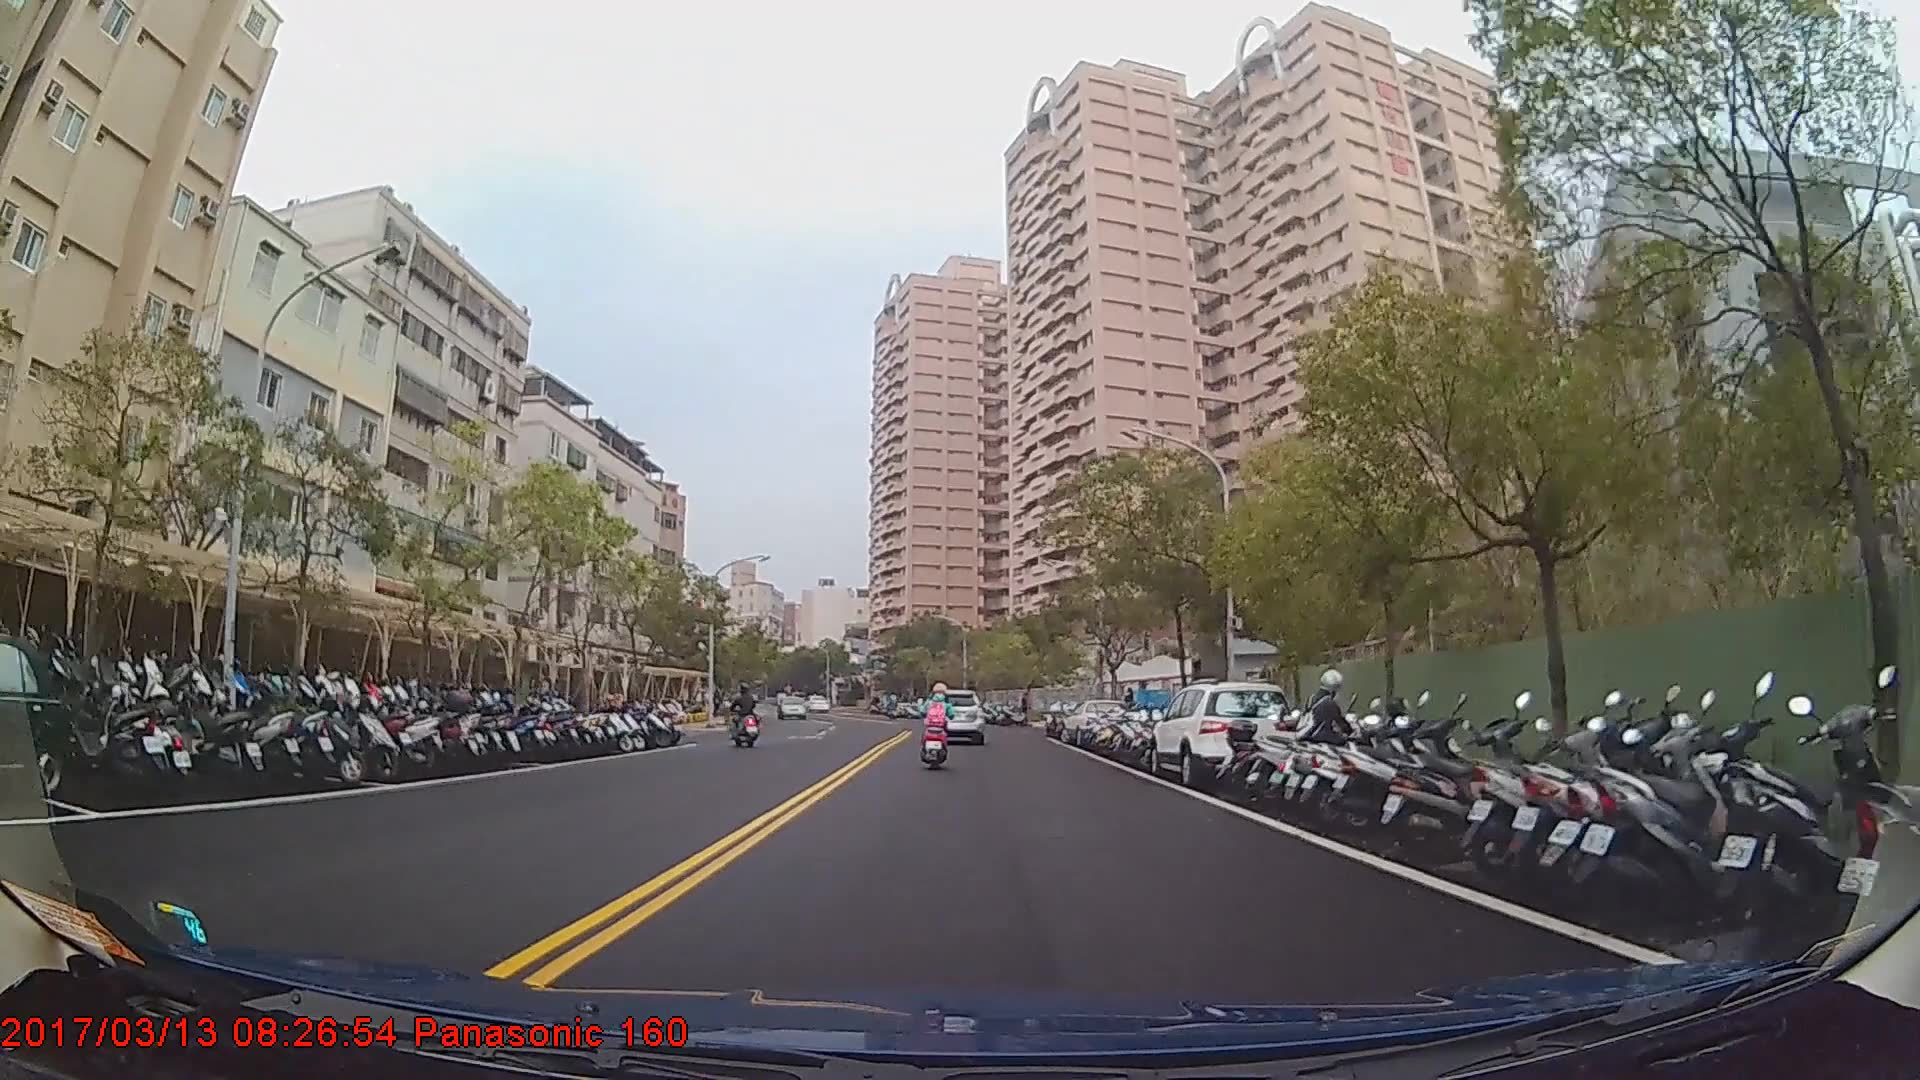rider: (919, 680, 956, 773), (728, 681, 761, 745)
vehicle: (1146, 679, 1294, 785), (0, 633, 70, 796), (1057, 695, 1135, 746), (926, 686, 983, 742), (774, 693, 807, 716)
